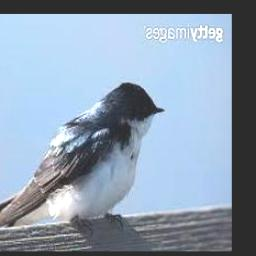Swallow: (0, 83, 165, 231)
